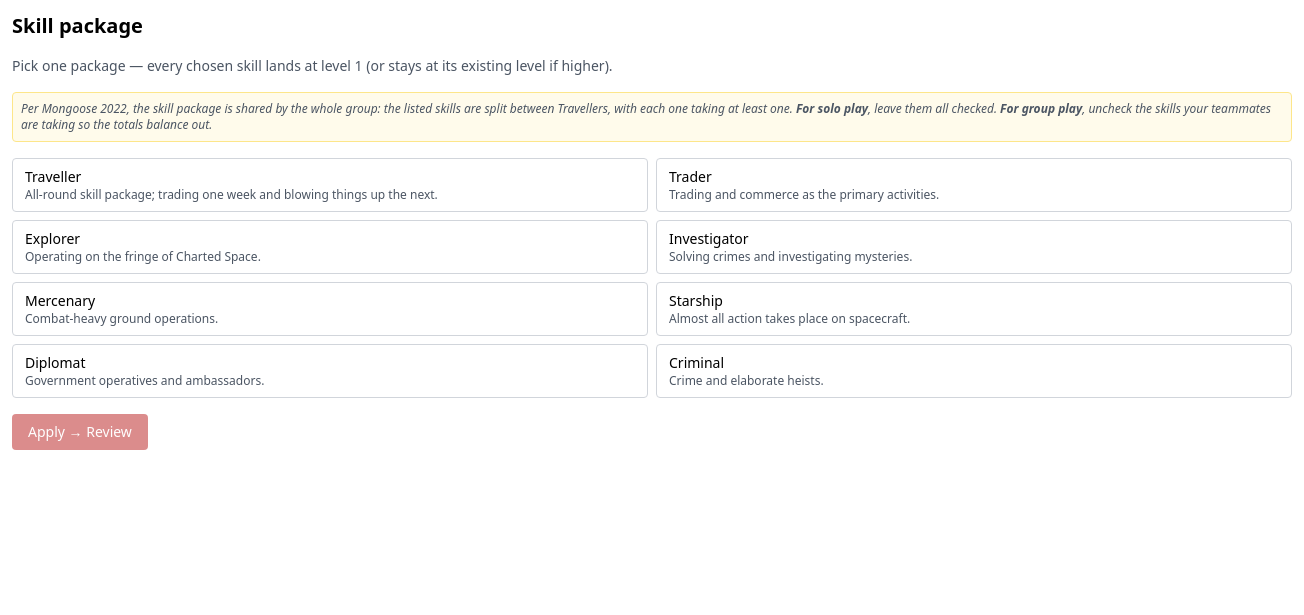
Test: SkillPackageStep — checklist subset selection › "None" button clears all checkboxes and disables Apply
Click the button "Traveller". click: x=330, y=185
box: [12,158,648,212]
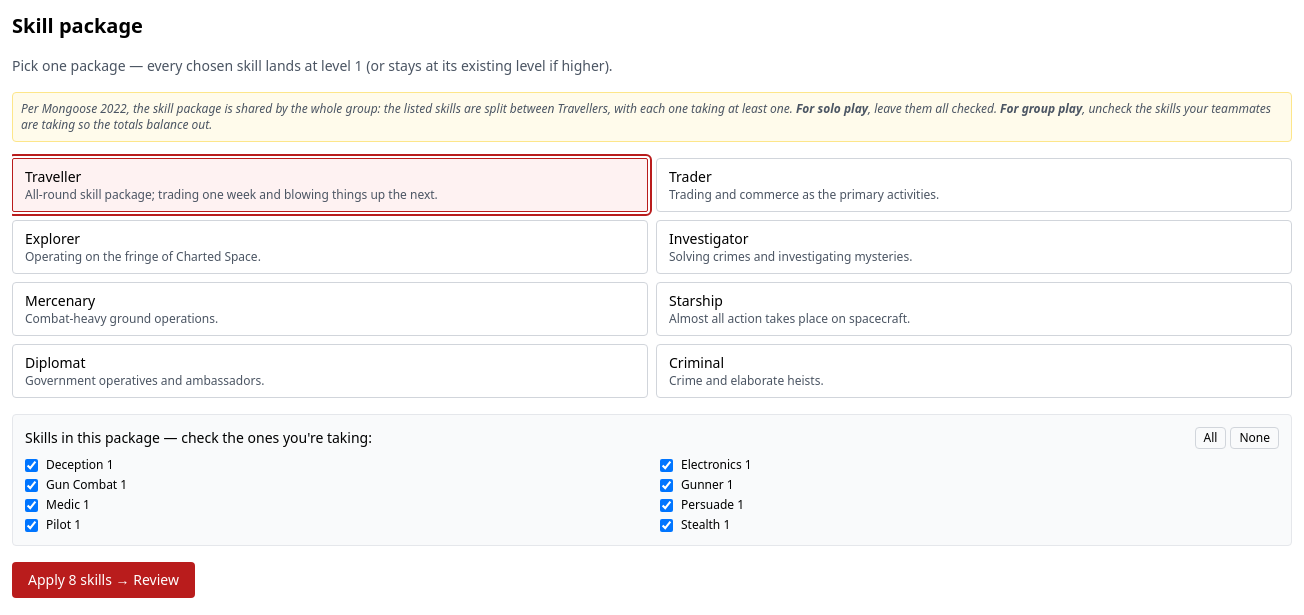
Click the button "None". click: x=1255, y=438
box: [1230,427,1279,449]
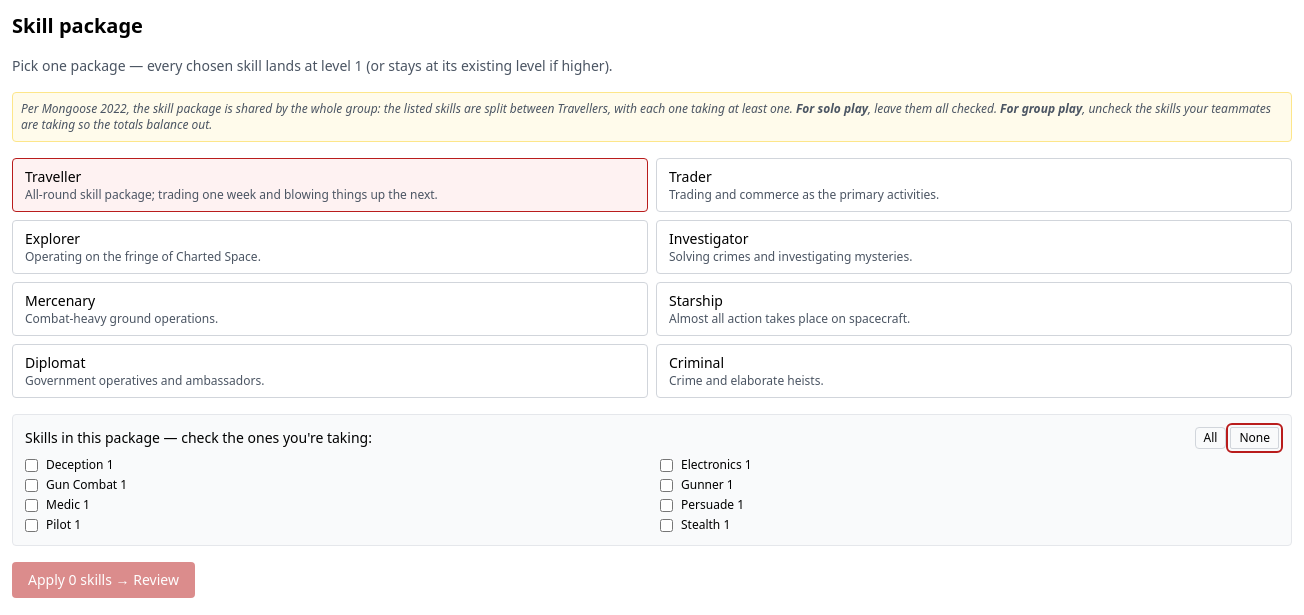
Expected: the checkbox labelled "Deception 1" is not checked, [25,458,38,472]
Expected: the checkbox labelled "Electronics 1" is not checked, [660,458,673,472]
Expected: the checkbox labelled "Gun Combat 1" is not checked, [25,478,38,492]
